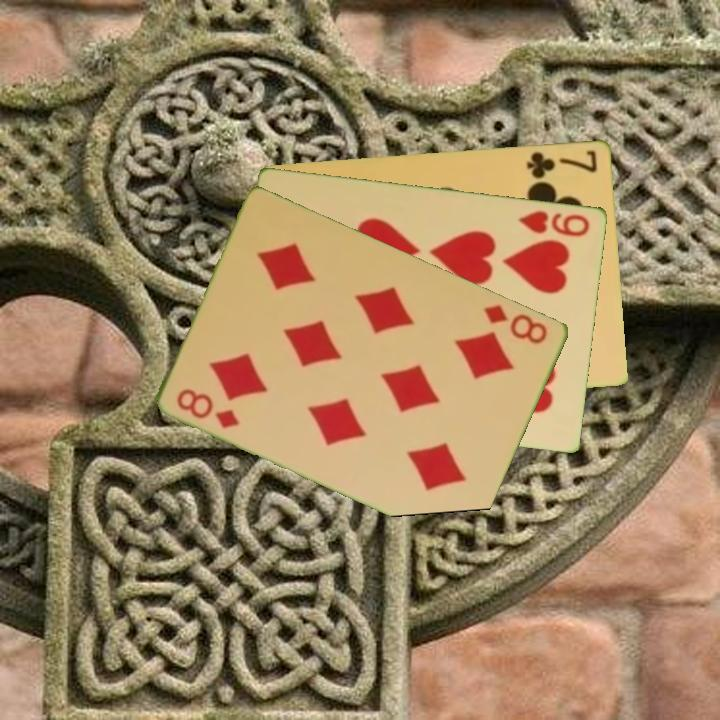7c: (523, 146, 601, 181)
8d: (481, 300, 551, 347), (173, 384, 243, 431)
9h: (515, 206, 593, 239)
